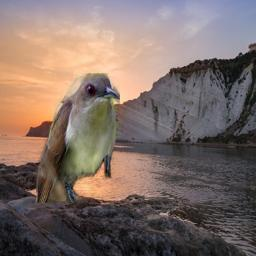Cuckoo: (36, 73, 120, 203)
